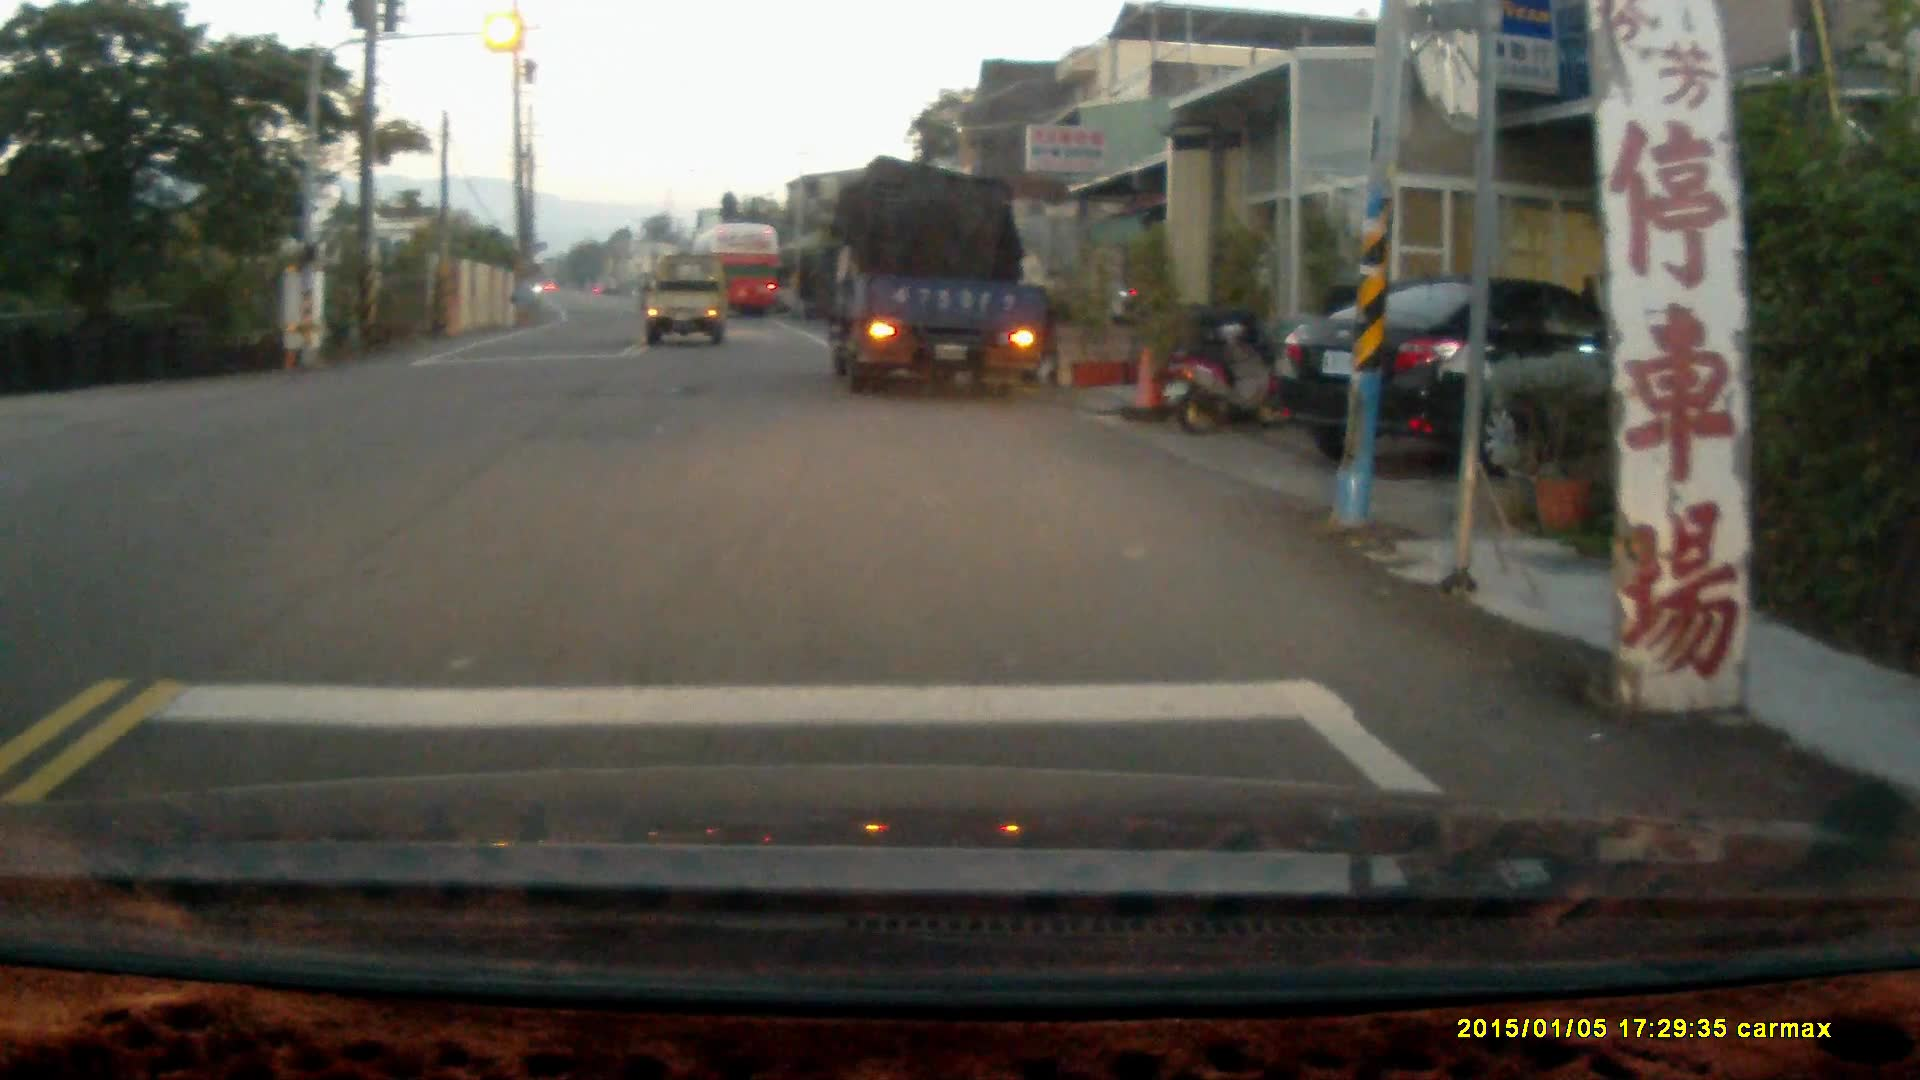vehicle: (1269, 284, 1720, 477), (825, 167, 1056, 397), (694, 222, 789, 323), (644, 256, 731, 343)
